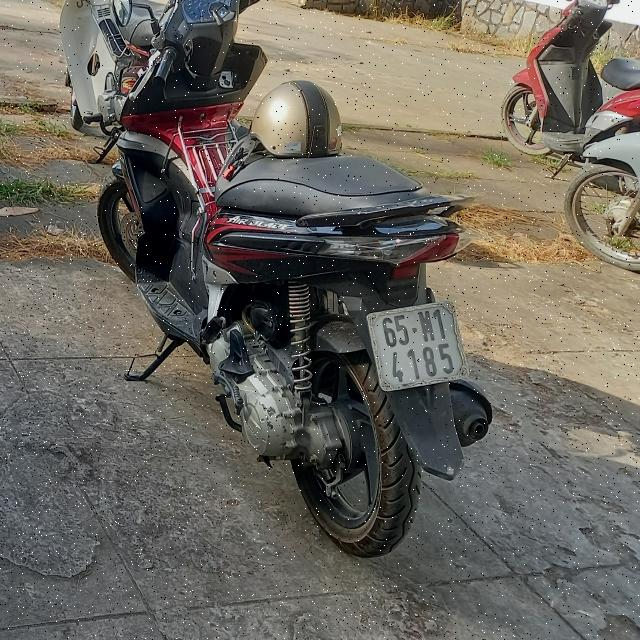1: (406, 346, 421, 379), (433, 307, 448, 338)
4: (391, 351, 405, 383)
5: (438, 342, 454, 374), (394, 314, 410, 344)
6: (381, 317, 397, 348)
8: (422, 345, 437, 377)
M: (416, 309, 438, 342)
